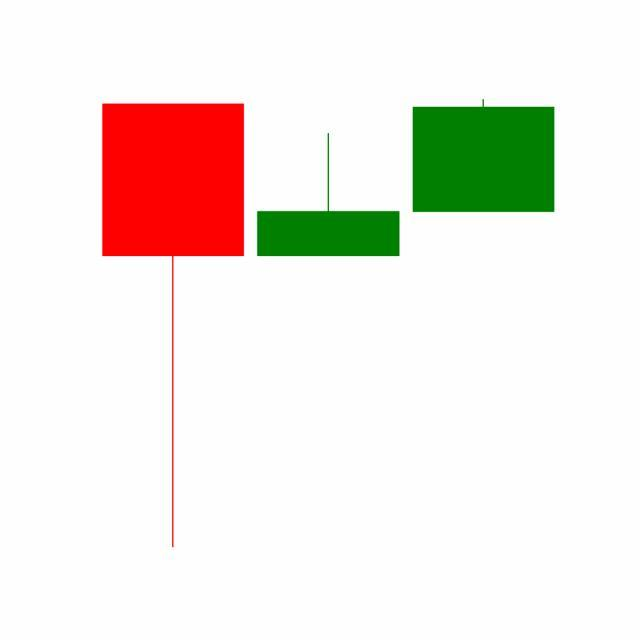Marubozu: (406, 98, 562, 214)
